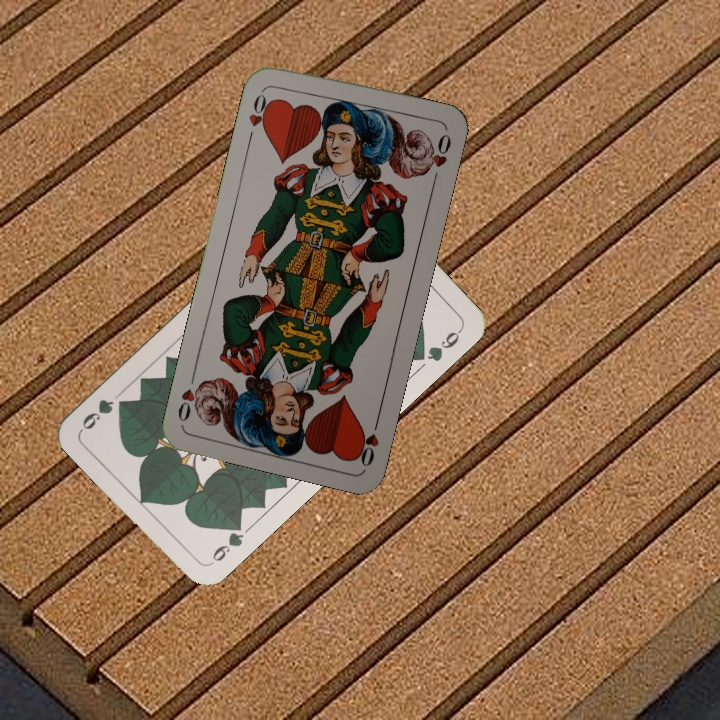G9: (204, 516, 247, 569)
HO: (244, 85, 275, 143), (352, 411, 383, 469)
